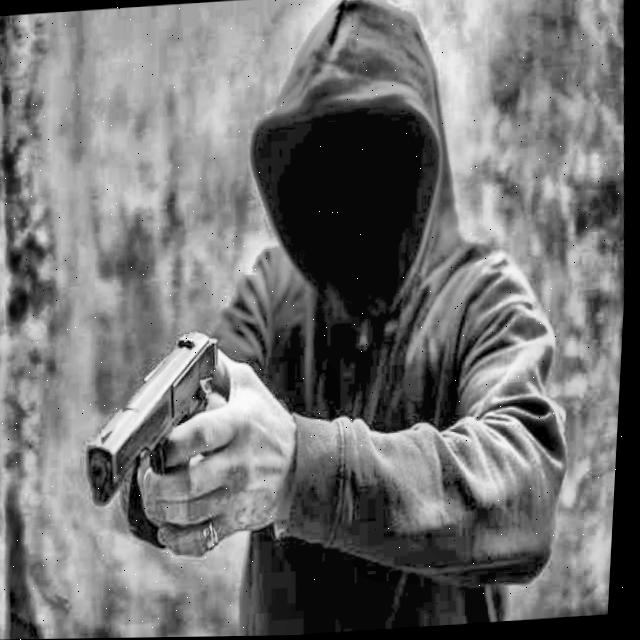pistol: (55, 320, 261, 543)
robbery: (72, 0, 572, 636)
